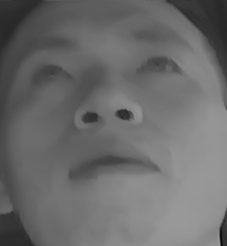eye: (131, 51, 188, 84), (25, 58, 76, 91)
mouth: (64, 138, 162, 191)
